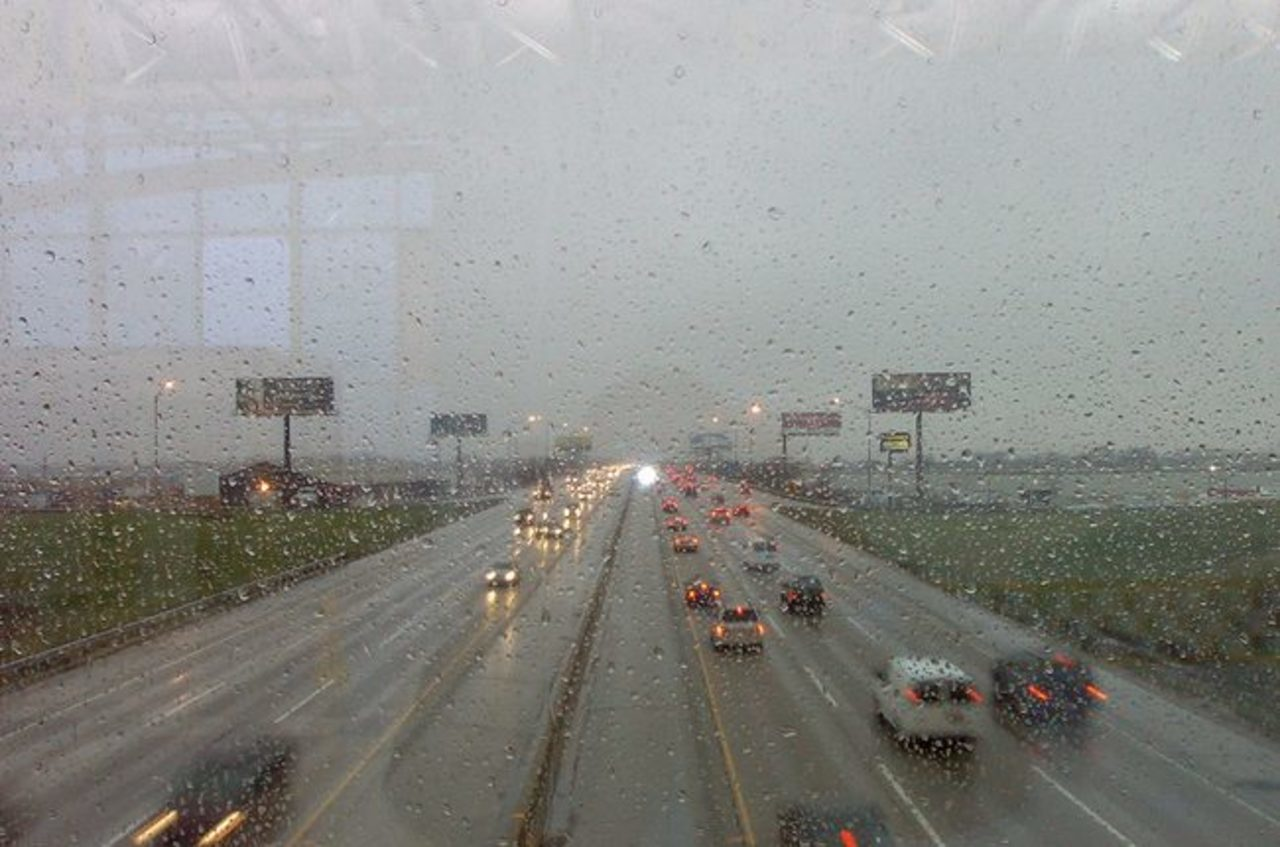car: (148, 737, 287, 843), (871, 652, 980, 742), (989, 649, 1098, 724), (712, 605, 763, 653), (779, 573, 827, 616), (737, 535, 779, 569), (679, 574, 714, 606), (481, 559, 516, 588), (540, 517, 565, 544), (670, 530, 698, 550), (513, 508, 535, 525)
